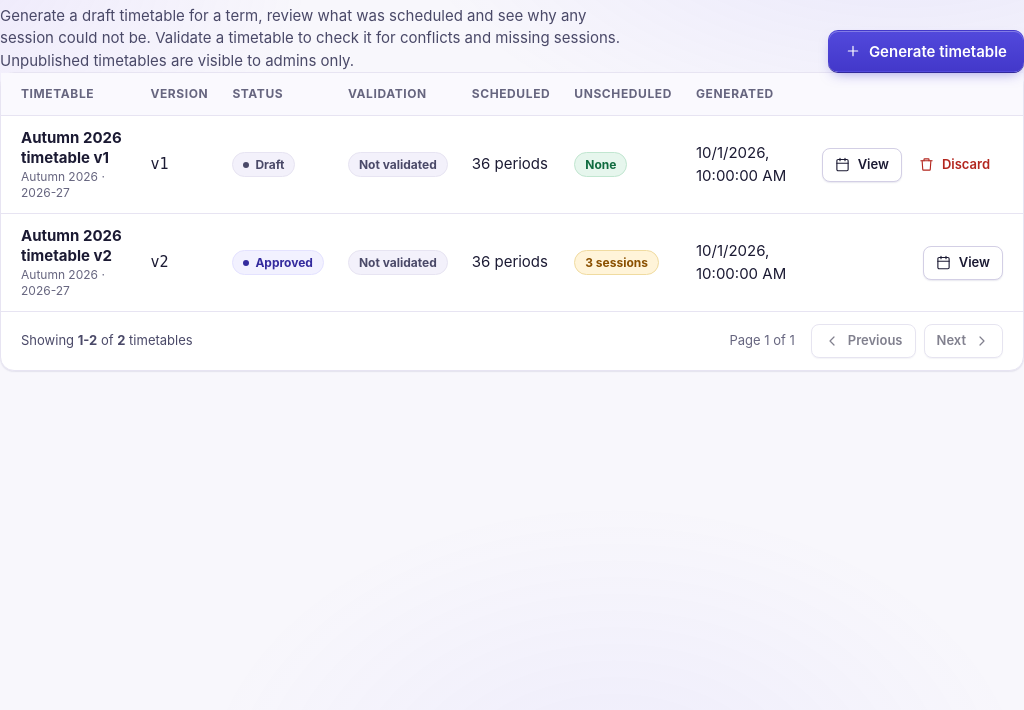
it: Timetable detail › shows the batch grid with breaks and a 2-period lab spanning both rows
Step 1. Click the button with aria-label "View Autumn 2026 timetable v1" → [862, 165], box [822,148,902,182]
(page scrolled)
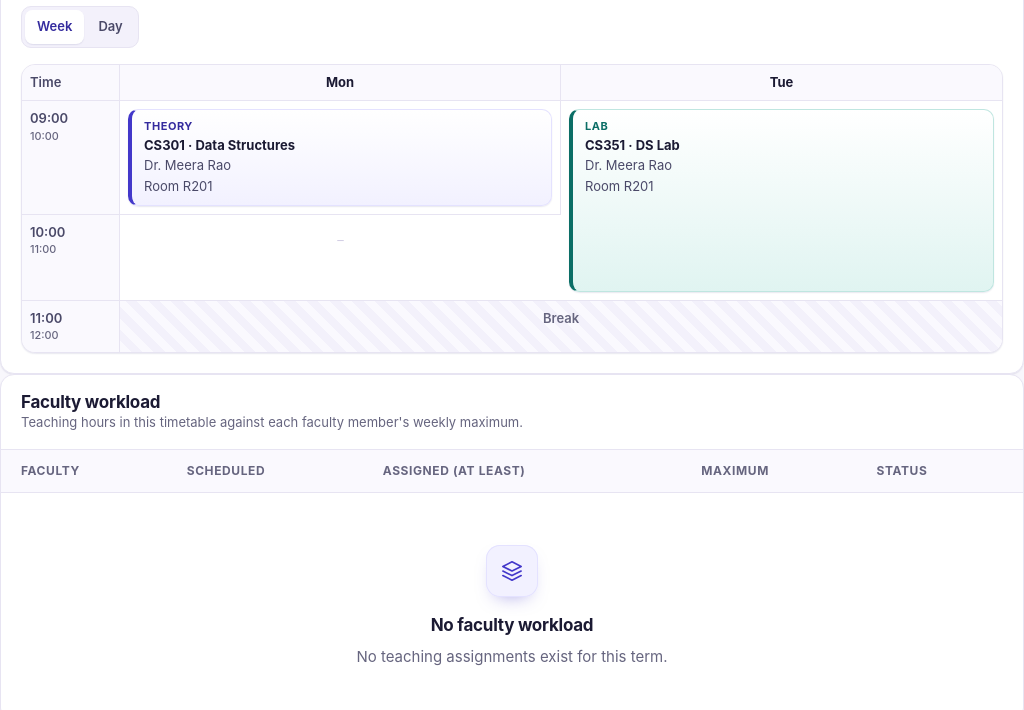
Result: the text "CS301 · Data Structures" is shown at [144,137,295,153]
Result: the text "Break" is shown at [120,300,1002,352]
